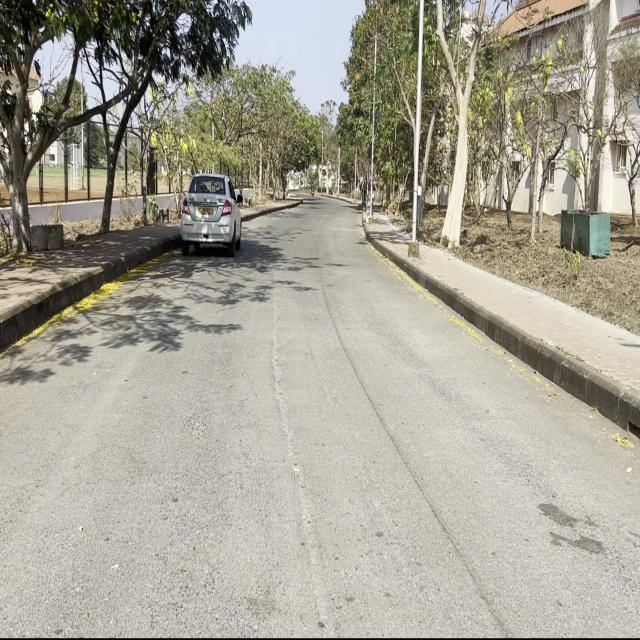Object: (180, 170, 243, 256)
Road: (2, 199, 634, 631)
